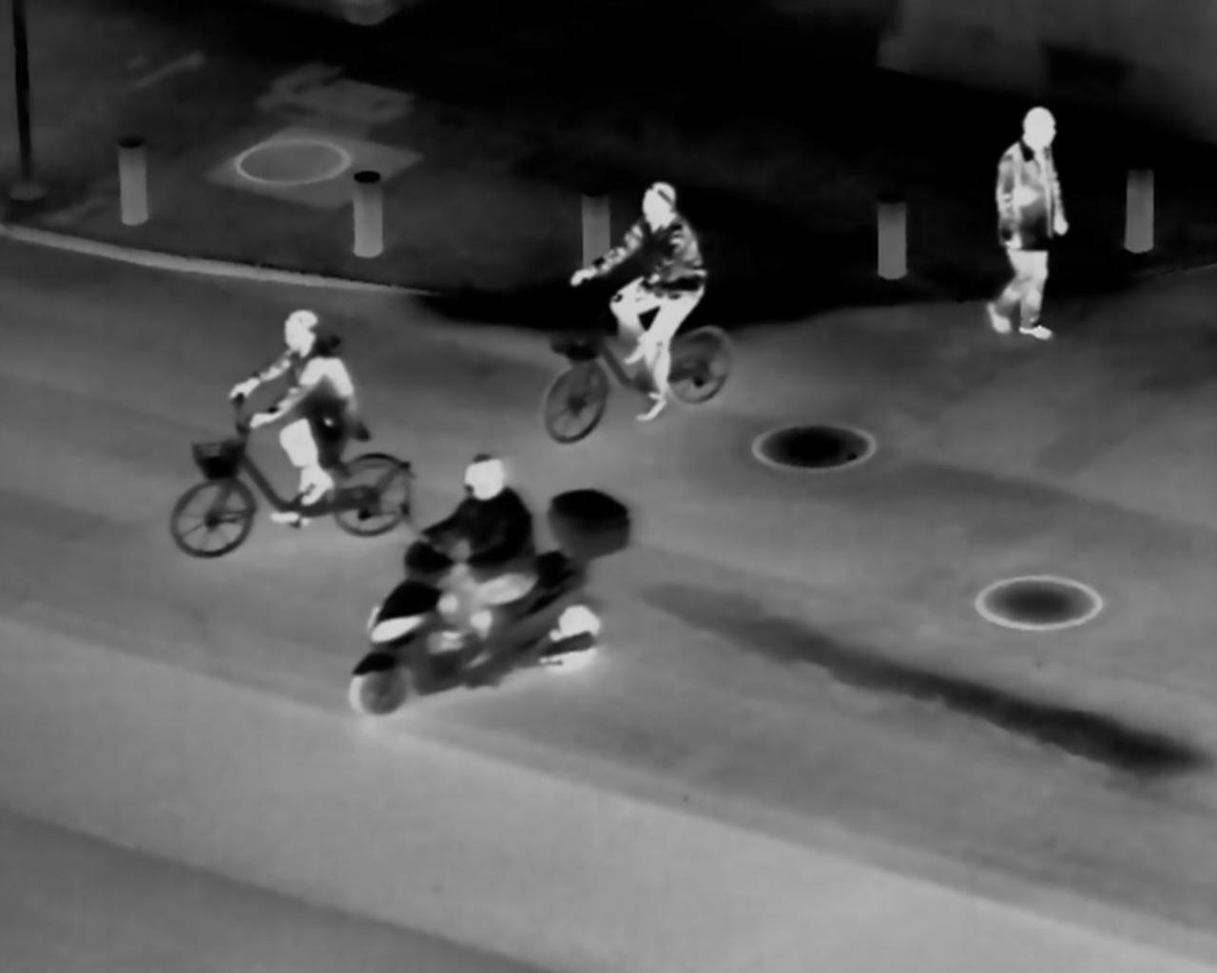person: (570, 164, 706, 428), (224, 297, 369, 523), (416, 440, 553, 658), (979, 99, 1078, 347)
